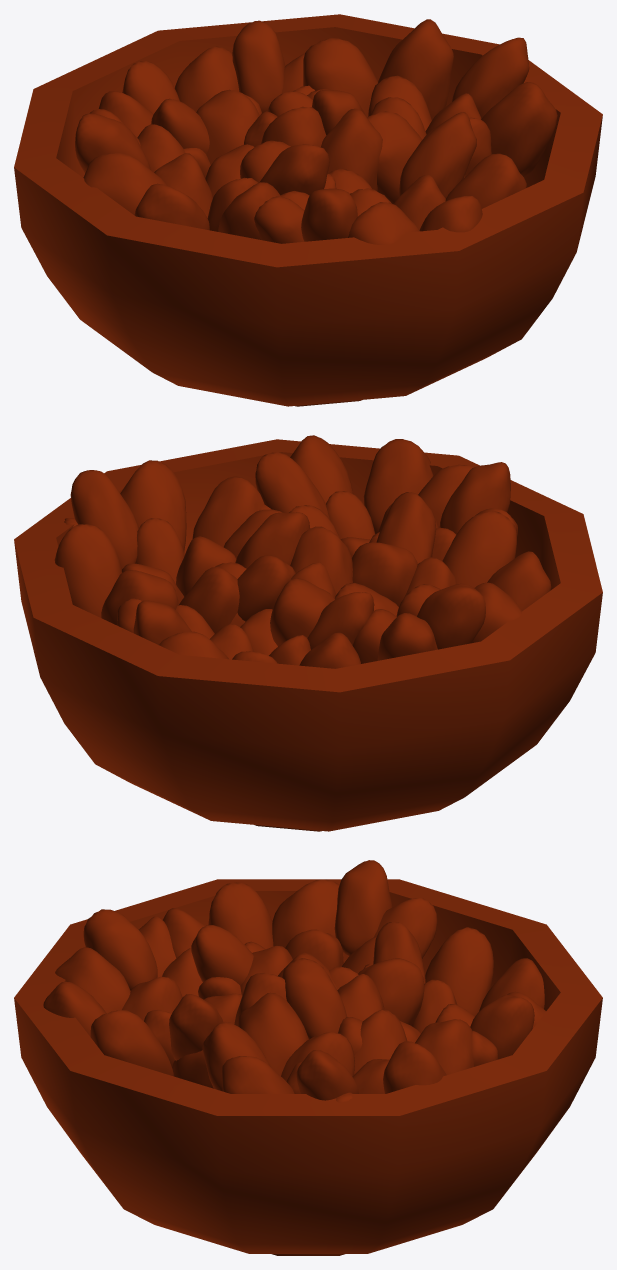
Rendered from Proxy_Fingan_B01.fbx.
3 renders of one model, top to bottom at view 1: azimuth 30°, elevation 25°; view 2: azimuth 150°, elevation 25°; view 3: azimuth 270°, elevation 25°, orthographic. The views are drawn at different scales.
Parts seen in each view (by area): view 1: Proxy_Fingan_B01; view 2: Proxy_Fingan_B01; view 3: Proxy_Fingan_B01.
Part boxes in pixels (box(x1,y1,x2,y2)): Proxy_Fingan_B01: box(14, 14, 602, 406); Proxy_Fingan_B01: box(14, 435, 602, 831); Proxy_Fingan_B01: box(14, 860, 602, 1255).
Size of the model in its own units: 94.82 by 99.7 by 49.26.
